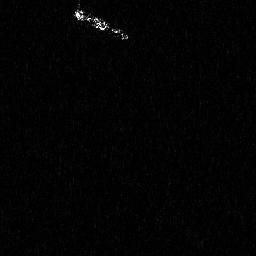ship: (72, 8, 132, 43)
